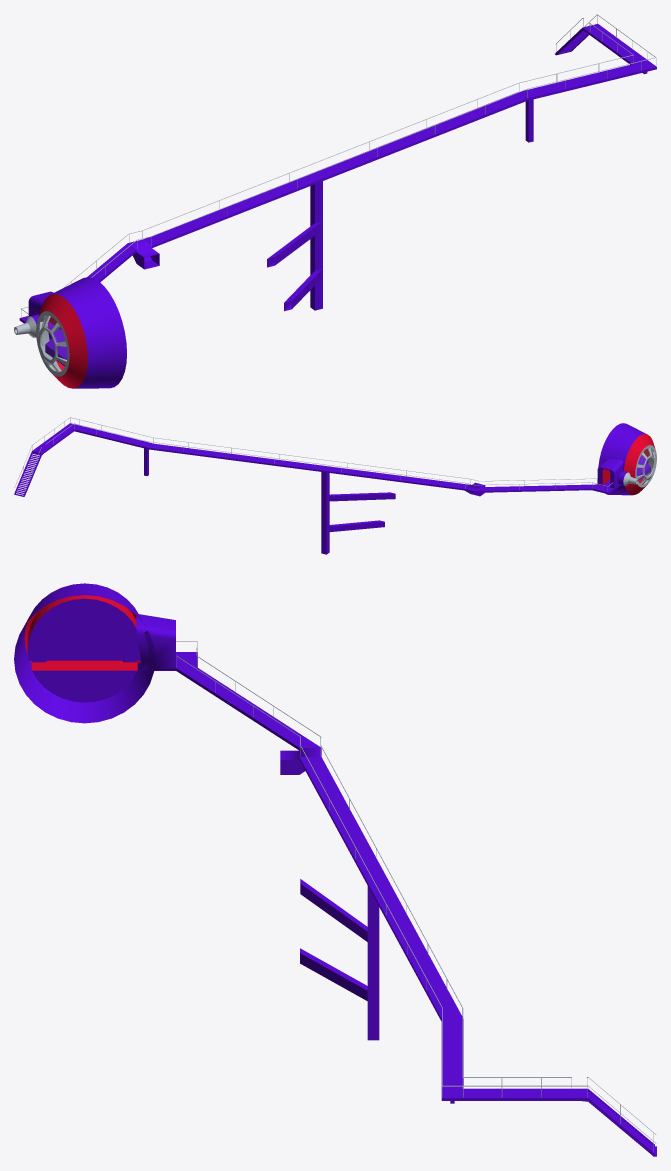
File: CEON_PASSEREL.glb
3 views of the same model, one above another, from view 1: azimuth 30°, elevation 25°; view 2: azimuth 150°, elevation 25°; view 3: azimuth 270°, elevation 25° (orthographic). The views are drawn at different scales.
Visible parts, largest first — view 1: CEON_PASSEREL; view 2: CEON_PASSEREL; view 3: CEON_PASSEREL.
Part boxes in pixels (x1=…): CEON_PASSEREL: x1=14, y1=14, x2=656, y2=388; CEON_PASSEREL: x1=14, y1=417, x2=656, y2=554; CEON_PASSEREL: x1=14, y1=583, x2=656, y2=1156.
Bounding box in the file's own units: 86.37 × 21.02 × 50.98.
